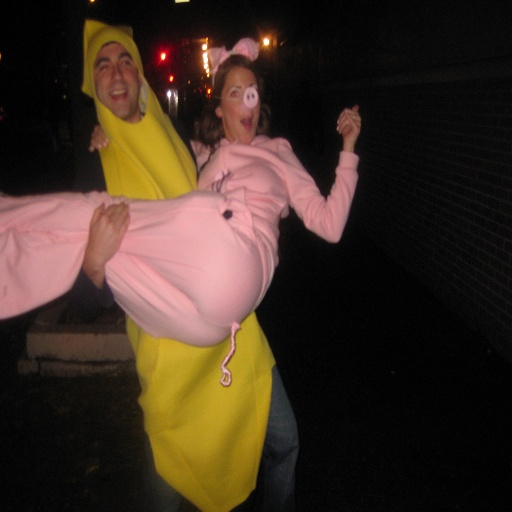hand: (85, 198, 130, 263), (333, 95, 369, 166), (88, 123, 110, 153)
